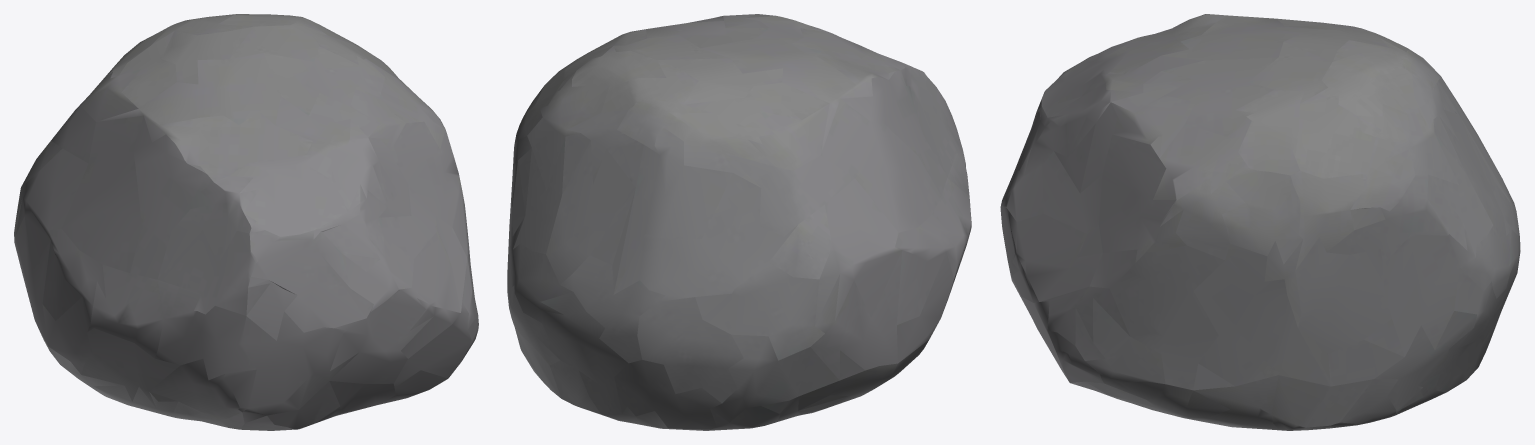
The model's file is nature-rock-round.glb.
3 renders of one model, left to right at view 1: azimuth 30°, elevation 25°; view 2: azimuth 150°, elevation 25°; view 3: azimuth 270°, elevation 25°, orthographic. The views are drawn at different scales.
Visible parts, largest first — view 1: nature-rock-round-fit; view 2: nature-rock-round-fit; view 3: nature-rock-round-fit.
Part boxes in pixels (x1,y1,x2,y2): nature-rock-round-fit: (14, 14, 478, 430); nature-rock-round-fit: (507, 14, 971, 430); nature-rock-round-fit: (1000, 14, 1520, 430).
Bounding box in the file's own units: 1.2 × 0.9349 × 1.37.
Materials: 1 (1 with a texture image).
